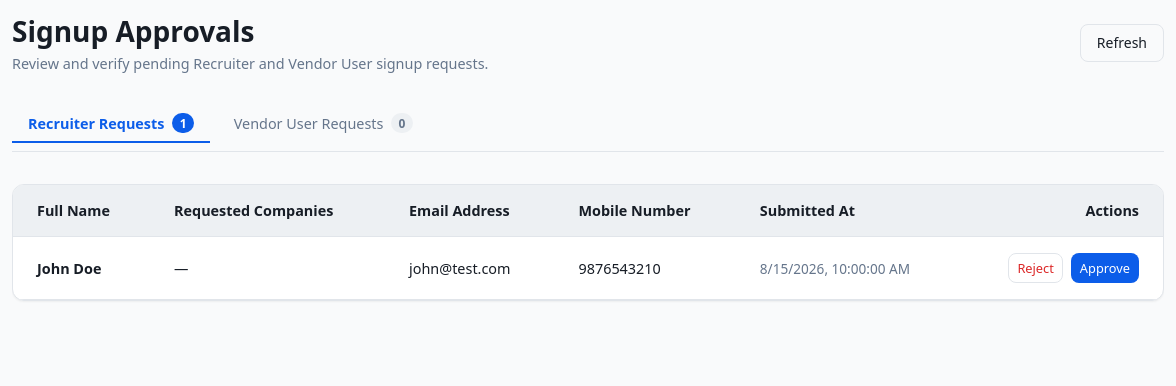
Test: VMS Frontend Tests › Recruiter signup approvals queue › Approve sends {} as the request body and updates UI
This screenshot has width=1176, height=386.
Expected: the text "John Doe" is shown, [13,237,150,300]
Step 1. Click the button "Approve" → (1105, 268), box [1071,253,1139,283]
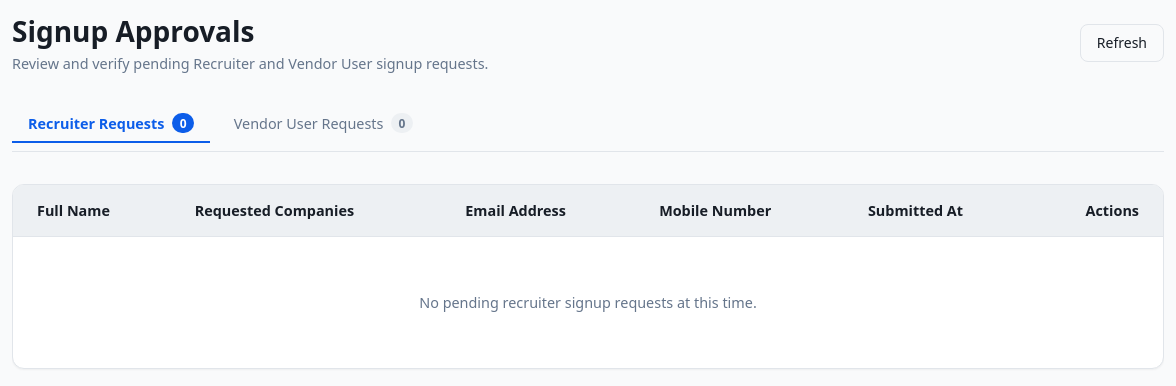
Now the text "John Doe" is gone
